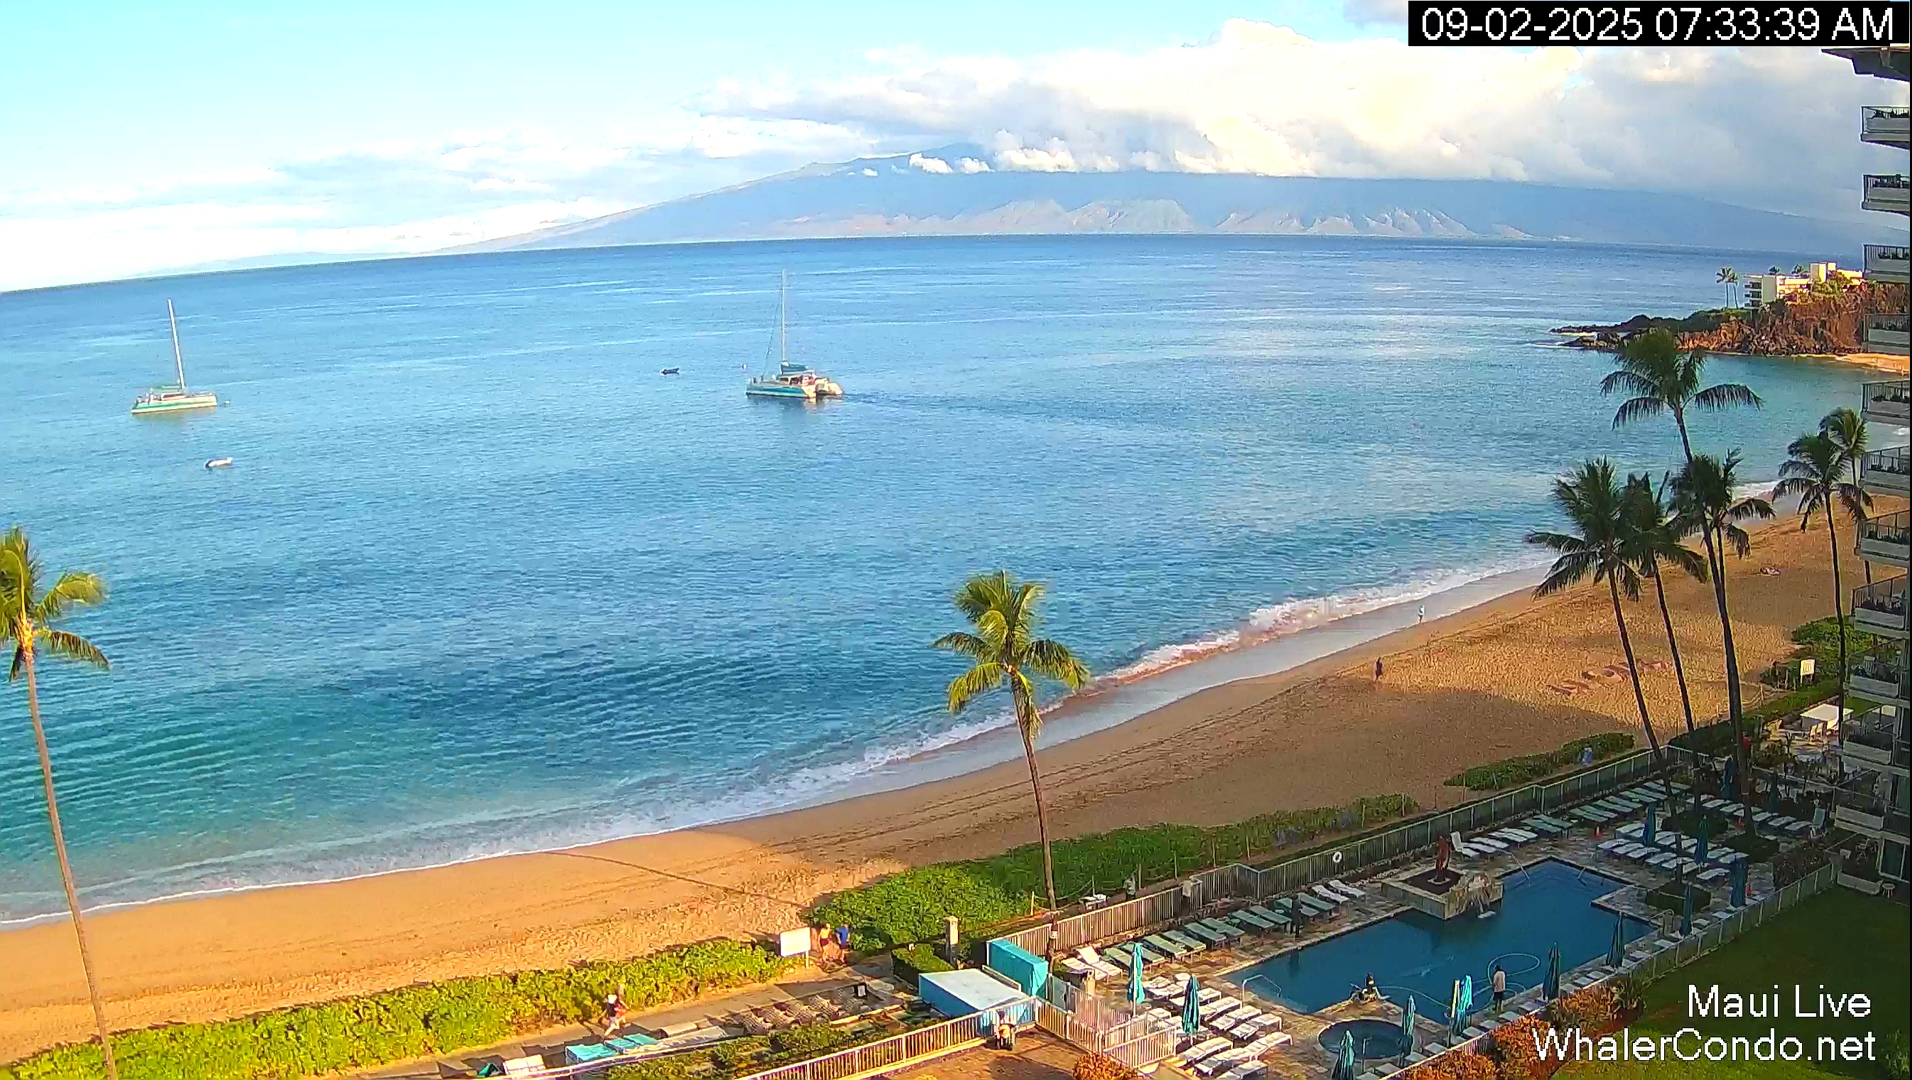boat: (745, 267, 844, 402), (131, 298, 218, 415)
person: (1492, 965, 1506, 1014), (818, 924, 831, 961), (1374, 657, 1384, 682), (1582, 744, 1593, 766), (1416, 605, 1425, 626)
